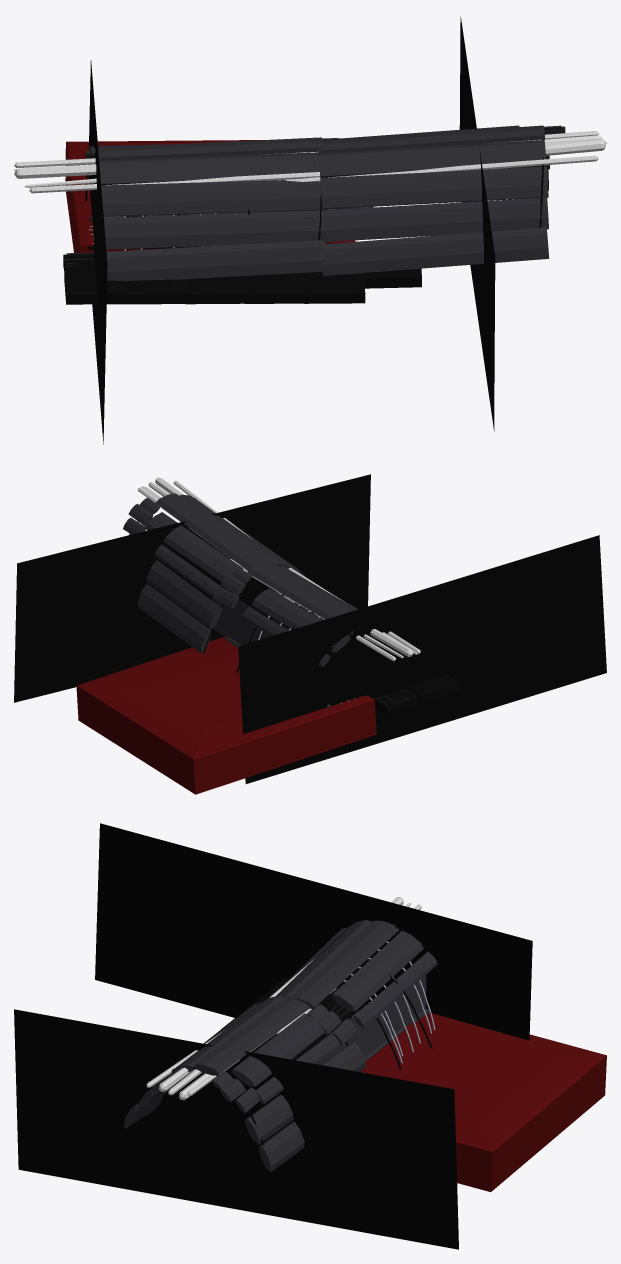
File: Working-Coalmine_S3.fbx
3 renders of one model, top to bottom at view 1: azimuth 30°, elevation 25°; view 2: azimuth 150°, elevation 25°; view 3: azimuth 270°, elevation 25°, orthographic. The views are drawn at different scales.
Visible parts, largest first — view 1: Wall, NewLayer0, Dekotop; view 2: NewLayer0, Wall, Dekotop, Wall-tiles; view 3: NewLayer0, Wall, Wall-tiles, Dekotop.
Boxes of the visible parts, x1,y1,x2,y2 form: Wall: (63, 125, 565, 281); NewLayer0: (63, 16, 495, 444); Dekotop: (14, 131, 606, 193); NewLayer0: (14, 474, 606, 783); Wall: (76, 493, 408, 794); Dekotop: (137, 477, 420, 661); Wall-tiles: (212, 597, 270, 645); NewLayer0: (14, 823, 532, 1249); Wall: (123, 920, 606, 1191); Wall-tiles: (318, 975, 426, 1064); Dekotop: (146, 897, 421, 1100).
Size of the model in its own units: 39.72 by 14.77 by 40.51.
